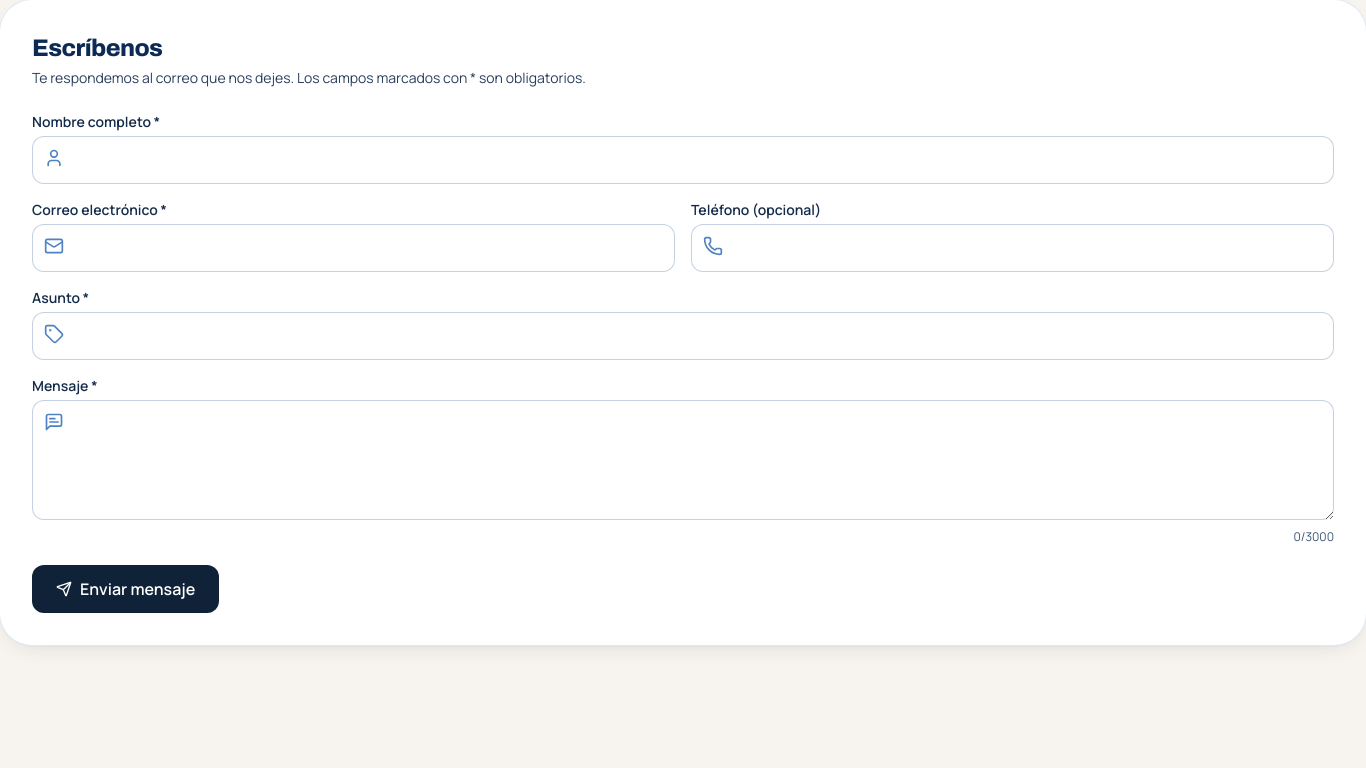
Test case: formulario de contacto › si el servidor no puede entregar (503) muestra el error y no confirma
Type "Ana López" into the field labelled "Nombre completo *".
click(683, 160); type("Ana López")  # box [32, 136, 1334, 184]
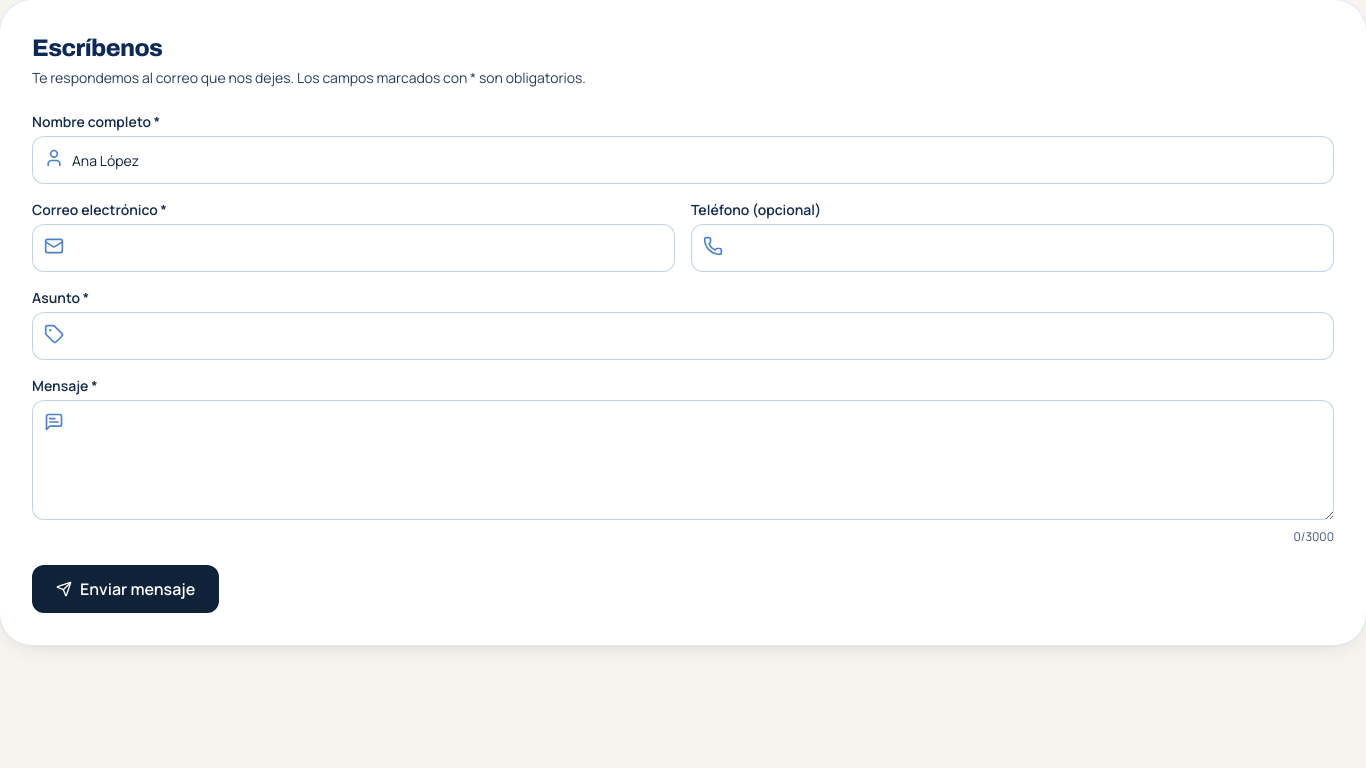
Type "ana@ejemplo.mx" into the field labelled "Correo electrónico *".
click(354, 248); type("ana@ejemplo.mx")  # box [32, 224, 675, 272]
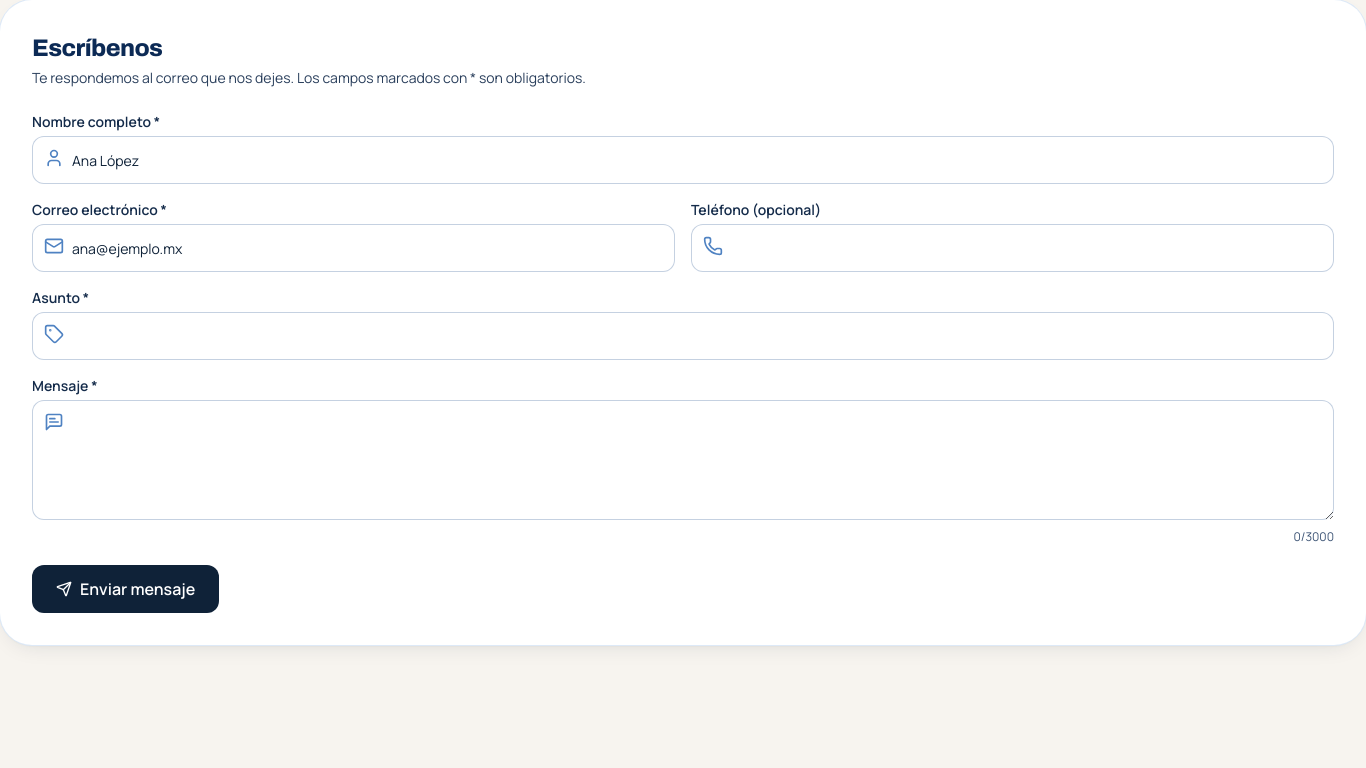
Type "Cotización" into the field labelled "Asunto *".
click(683, 336); type("Cotización")  # box [32, 312, 1334, 360]
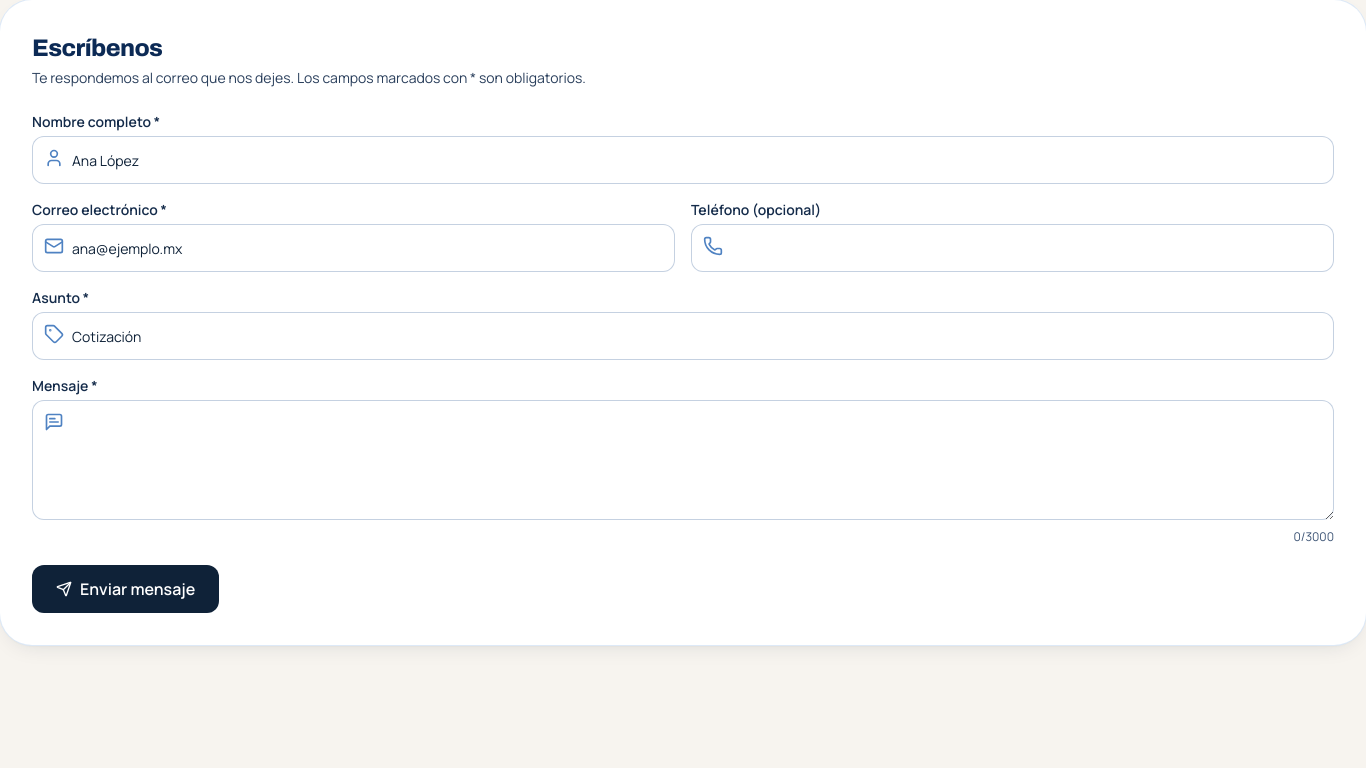
Type "Quisiera información de batas." into the text box labelled "Mensaje * 0/3000".
click(683, 460); type("Quisiera información de batas.")  # box [32, 400, 1334, 520]
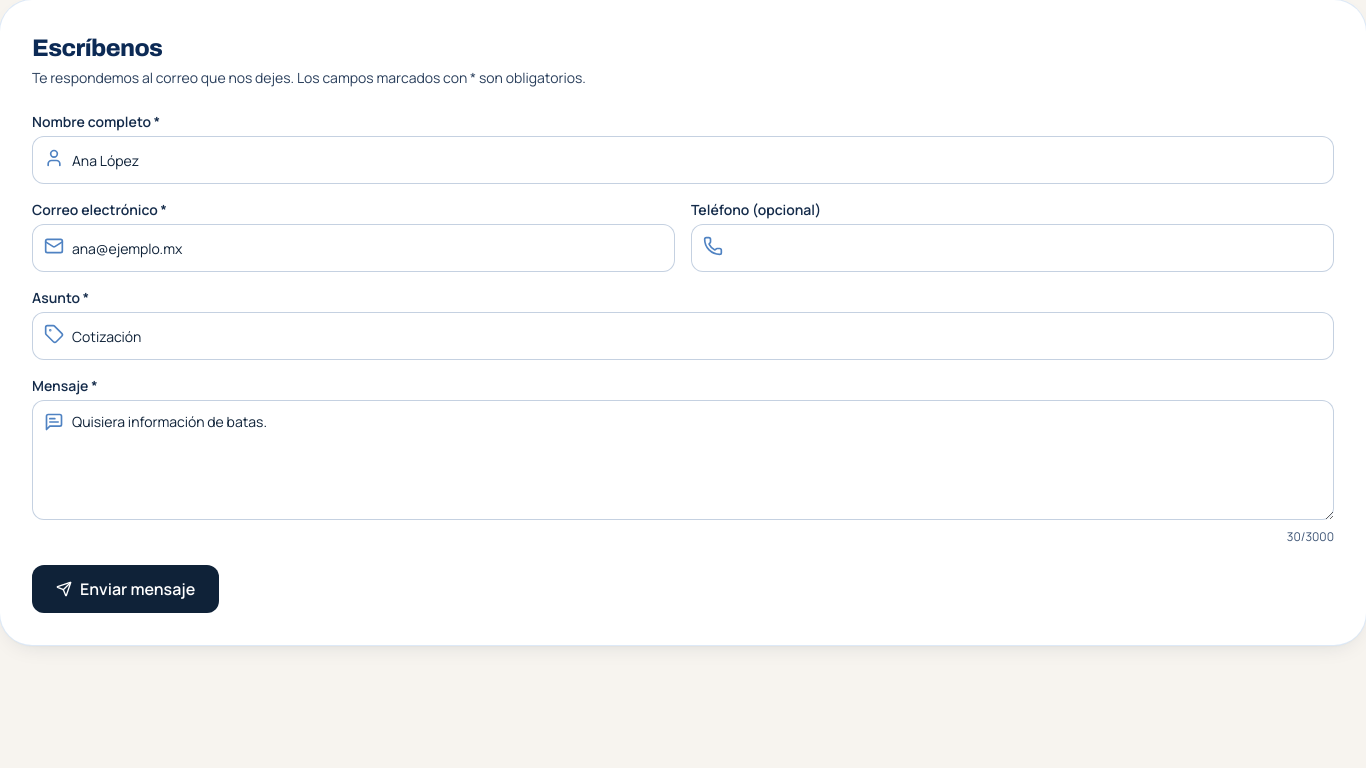
Click the button "Enviar mensaje".
click(126, 589)  # box [32, 565, 219, 613]
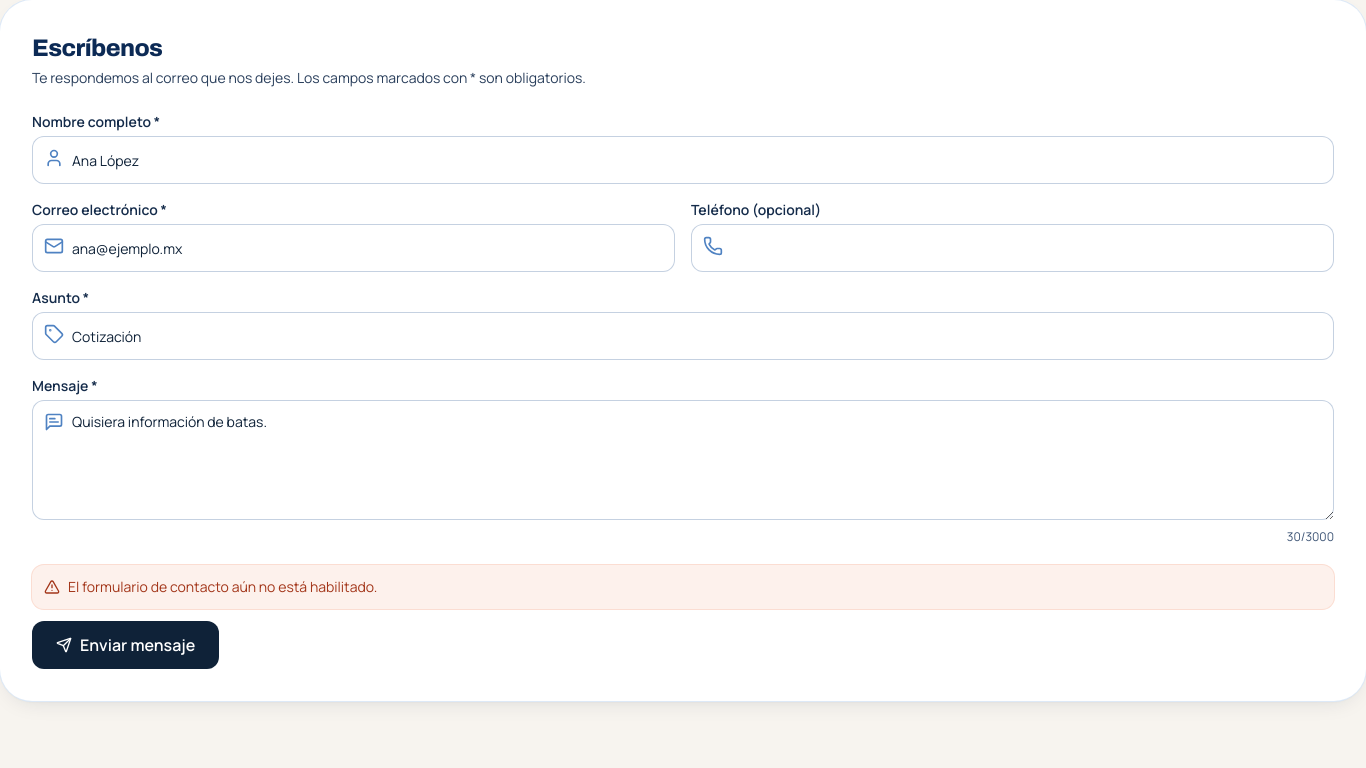
Expected: the button "Enviar mensaje" is shown, [32, 621, 219, 669]
Result: the message shows "aún no está habilitado" at [68, 577, 377, 596]
